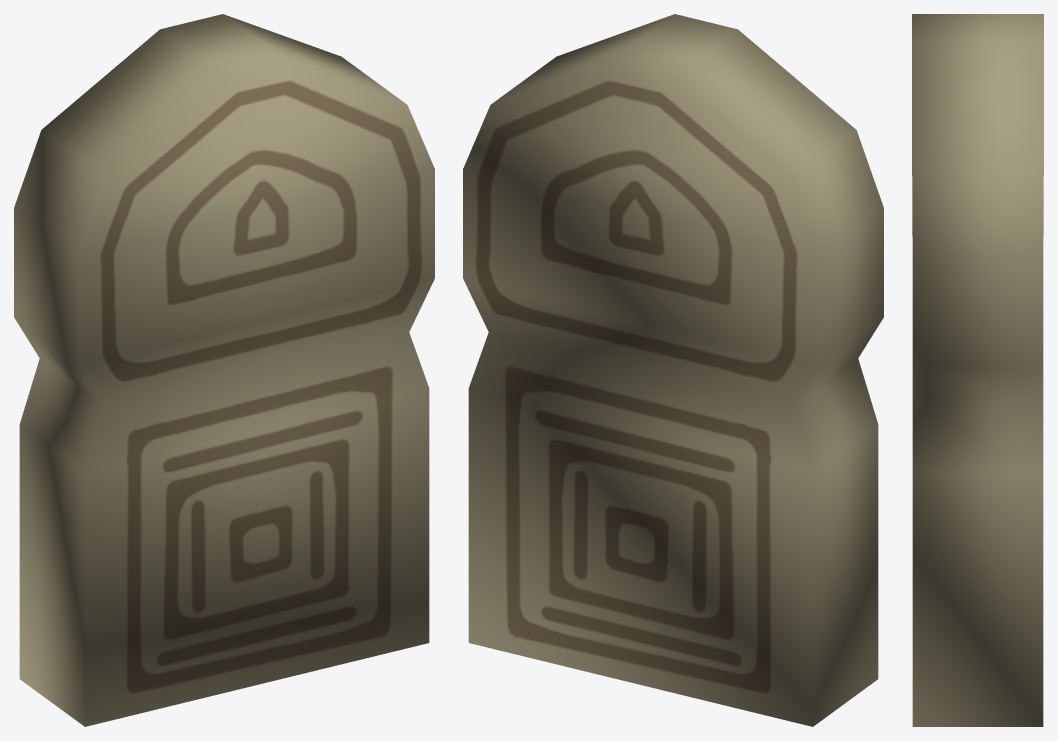
File: Mesh_StoneTablet.glb
The picture shows the model from 3 angles, left to right: view 1: azimuth 30°, elevation 25°; view 2: azimuth 150°, elevation 25°; view 3: azimuth 270°, elevation 25°; orthographic projection.
Parts seen in each view (by area): view 1: Cube.025; view 2: Cube.025; view 3: Cube.025.
Boxes of the visible parts, box(x1,y1,x2,y2) form: Cube.025: box(14, 14, 434, 726); Cube.025: box(463, 14, 883, 726); Cube.025: box(912, 14, 1043, 726).
Size of the model in its own units: 2.06 by 3.41 by 0.6637.
Materials: 1 (1 with a texture image).
